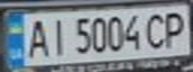0: (106, 12, 127, 53), (90, 14, 109, 54)
4: (121, 11, 145, 51)
5: (69, 15, 93, 55)
A: (21, 16, 51, 60)
C: (142, 10, 172, 51)
I: (45, 15, 69, 57)
P: (160, 8, 190, 50)
